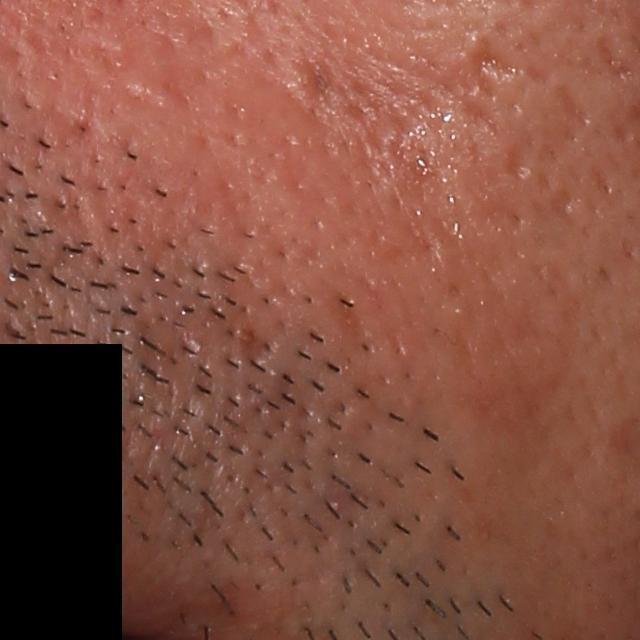atrophic_scar: (468, 39, 528, 104), (592, 31, 636, 88), (237, 322, 281, 368), (557, 79, 589, 130), (549, 186, 580, 230), (505, 137, 533, 181)
